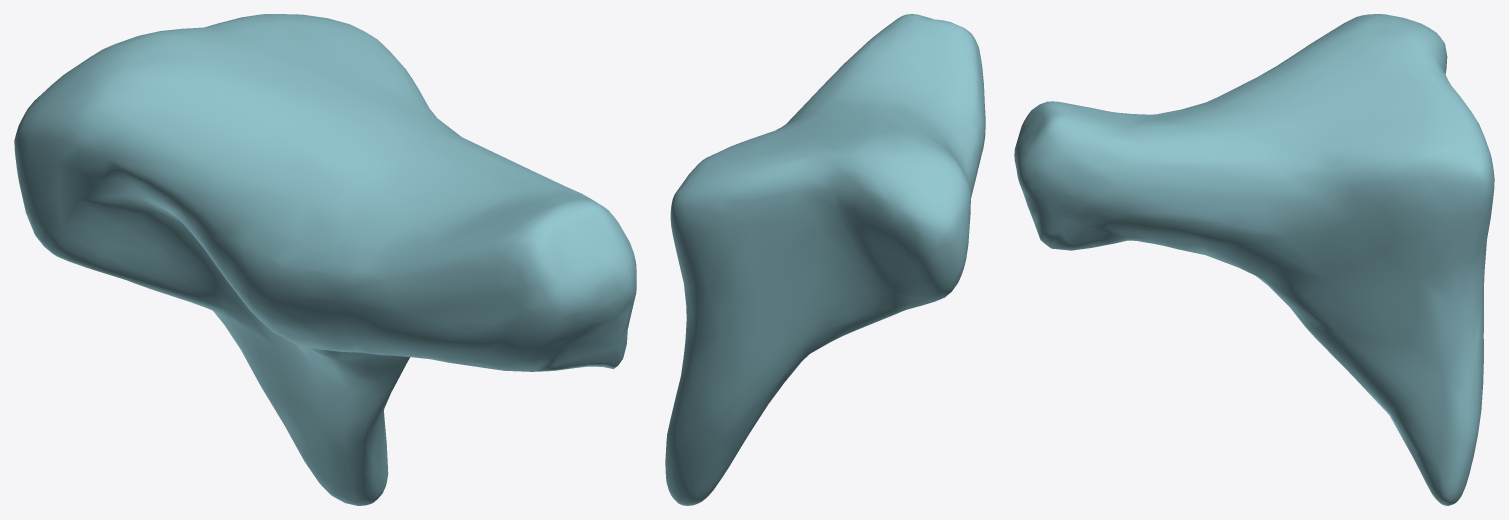
3 views of the same model, side by side, from view 1: azimuth 30°, elevation 25°; view 2: azimuth 150°, elevation 25°; view 3: azimuth 270°, elevation 25° (orthographic). The views are drawn at different scales.
Visible parts, largest first — view 1: 右侧杓状软骨; view 2: 右侧杓状软骨; view 3: 右侧杓状软骨.
Boxes of the visible parts, x1,y1,x2,y2 form: 右侧杓状软骨: (14,14,636,505); 右侧杓状软骨: (665,14,985,505); 右侧杓状软骨: (1014,14,1494,505).
Size of the model in its own units: 0.00802 by 0.0107 by 0.0119.
